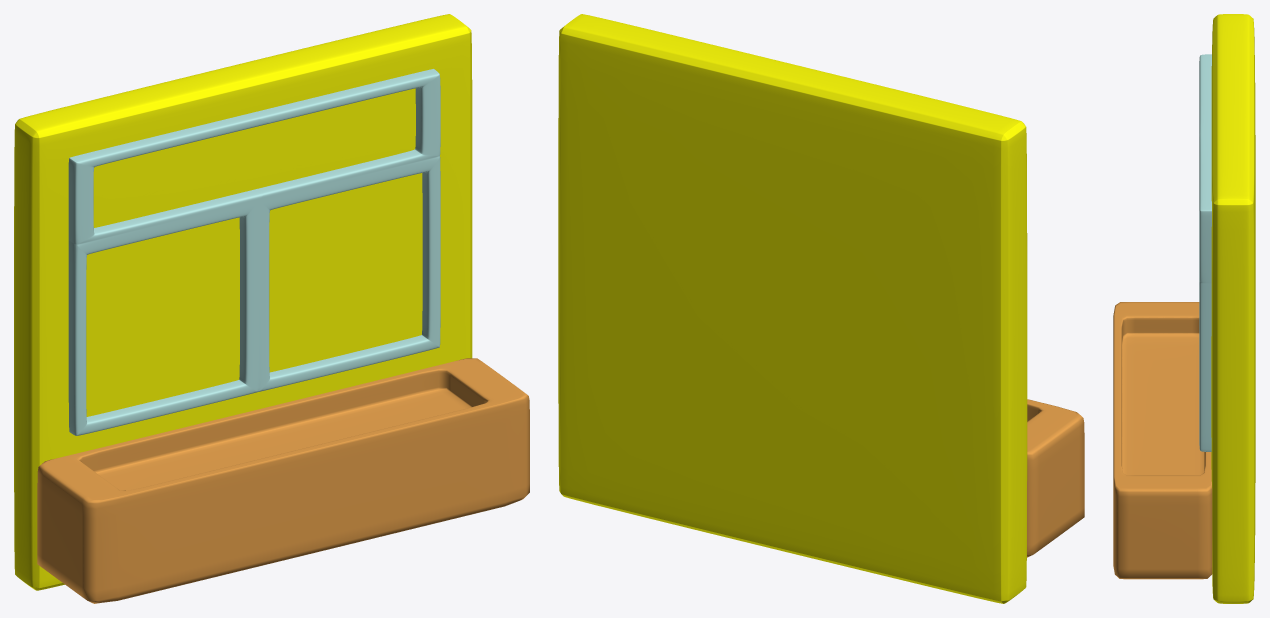
3 renders of one model, left to right at view 1: azimuth 30°, elevation 25°; view 2: azimuth 150°, elevation 25°; view 3: azimuth 270°, elevation 25°, orthographic. The views are drawn at different scales.
Parts seen in each view (by area): view 1: polySurface1288; view 2: polySurface1288; view 3: polySurface1288.
Part boxes in pixels (left/top/right/bottom): polySurface1288: left=14, top=14, right=529, bottom=603; polySurface1288: left=558, top=14, right=1084, bottom=603; polySurface1288: left=1113, top=14, right=1255, bottom=603.
Size of the model in its own units: 1 by 0.9995 by 0.3169.
